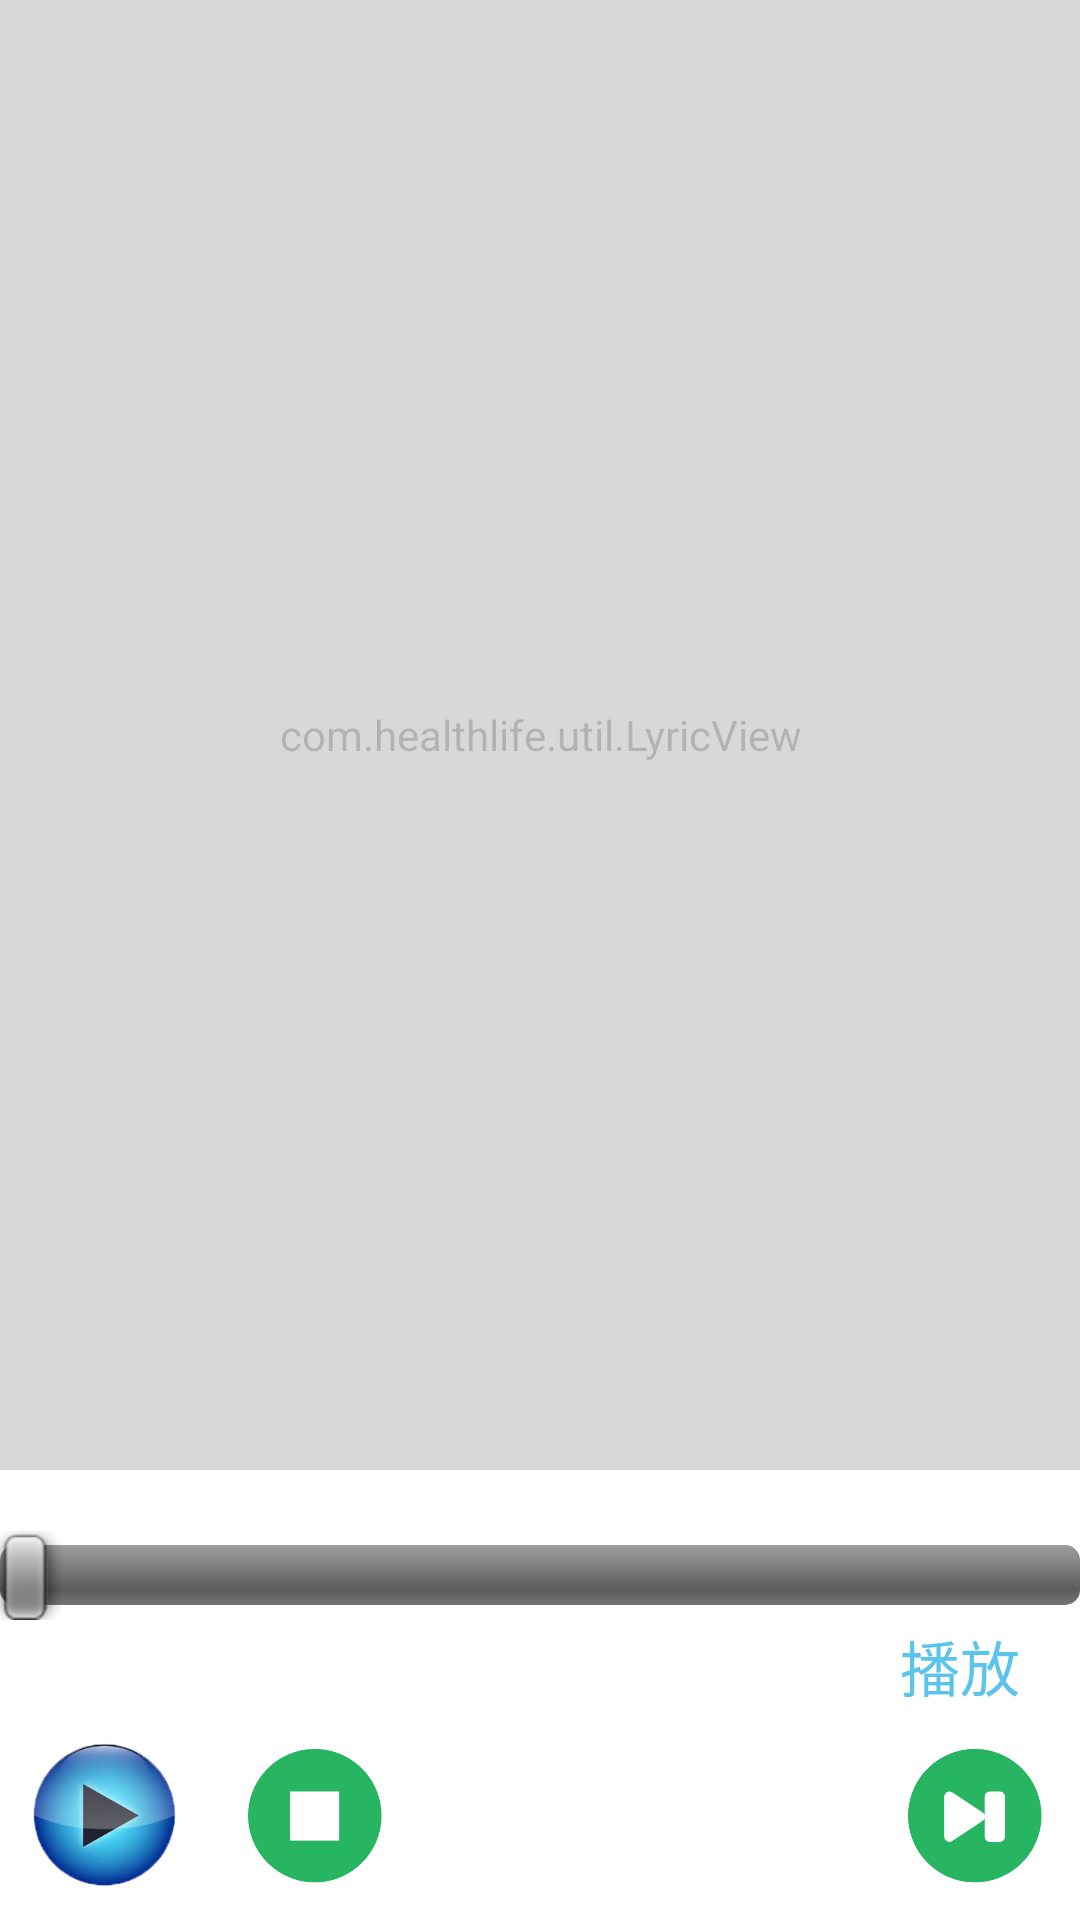

Screen size 1080px×1920px. Icon name, then its center in pixels as [x,y]:
nextmusic bt: [975,1816]
playmusic bt: [104,1815]
stopmusic bt: [315,1816]
